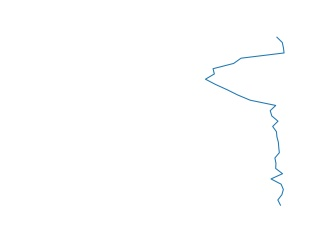distalBar: (199, 38, 292, 206)
